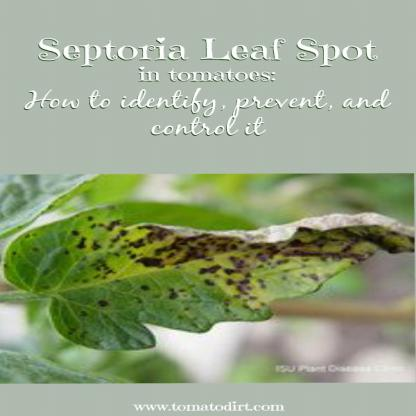tomato septoria leaf spot: (7, 202, 415, 354)
